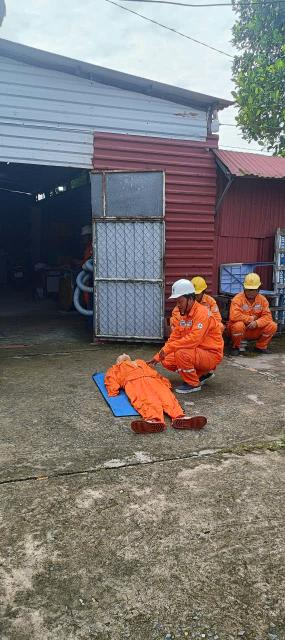helmet: (162, 275, 201, 307), (185, 267, 208, 298), (242, 269, 263, 300), (75, 220, 96, 240)
shoes: (155, 407, 216, 432), (124, 414, 171, 443), (174, 377, 205, 397), (194, 371, 219, 386), (232, 344, 251, 360), (252, 346, 272, 357)
